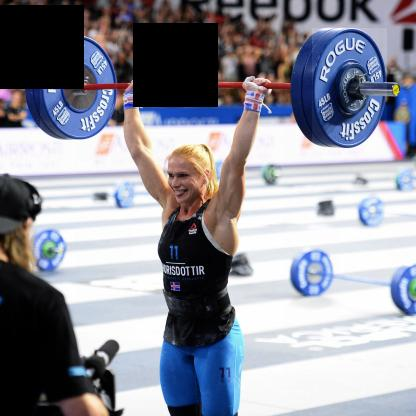barbell: (313, 29, 388, 149), (41, 36, 118, 141)
